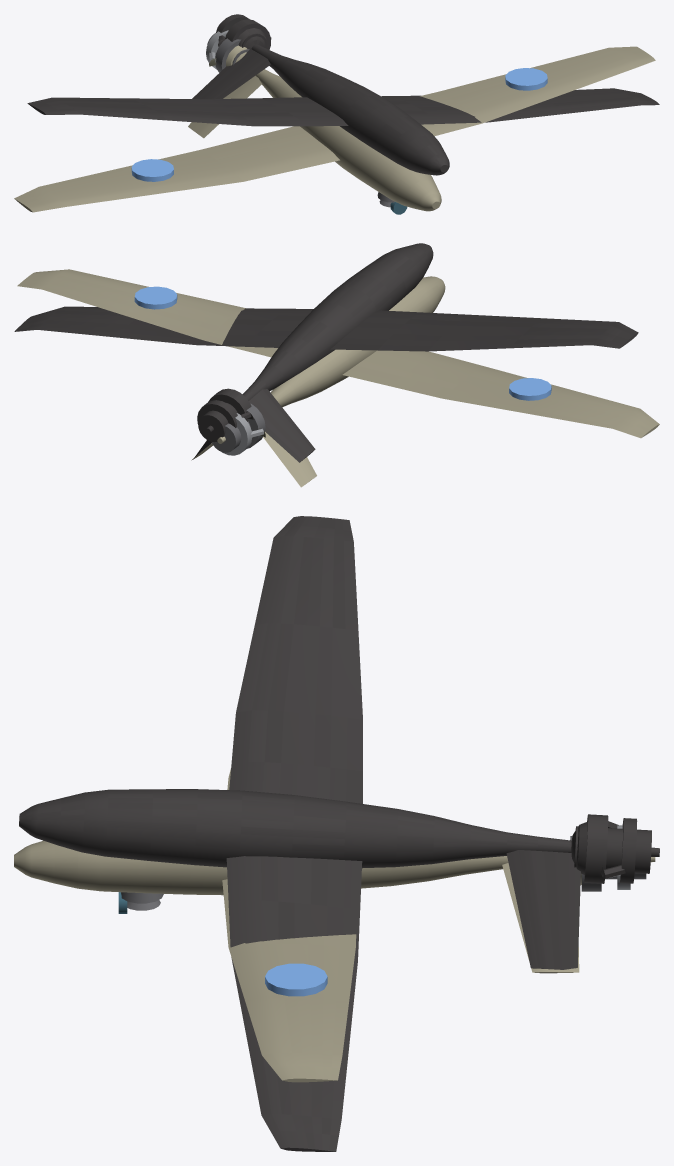
Rendered from drone__skylark_3.glb.
The picture shows the model from 3 angles, top to bottom: view 1: azimuth 30°, elevation 25°; view 2: azimuth 150°, elevation 25°; view 3: azimuth 270°, elevation 25°; orthographic projection. The views are drawn at different scales.
Visible parts, largest first — view 1: Fuselage_Mesh, Wreck, Propeller_Mesh; view 2: Wreck, Fuselage_Mesh, Propeller_Mesh; view 3: Wreck, Fuselage_Mesh.
Part boxes in pixels (<box>): Fuselage_Mesh: <box>14,46,655,214</box>; Wreck: <box>27,14,659,175</box>; Propeller_Mesh: <box>206,30,249,72</box>; Wreck: <box>14,243,638,462</box>; Fuselage_Mesh: <box>17,269,659,487</box>; Propeller_Mesh: <box>212,403,265,455</box>; Wreck: <box>19,516,659,1151</box>; Fuselage_Mesh: <box>14,769,579,1082</box>.
Size of what is drawn, in the model's own units: 4.73 by 1.03 by 2.89.
